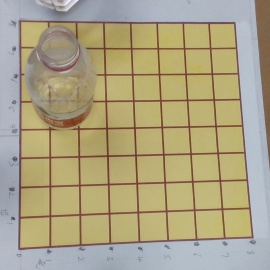bottle: (27, 28, 95, 131)
